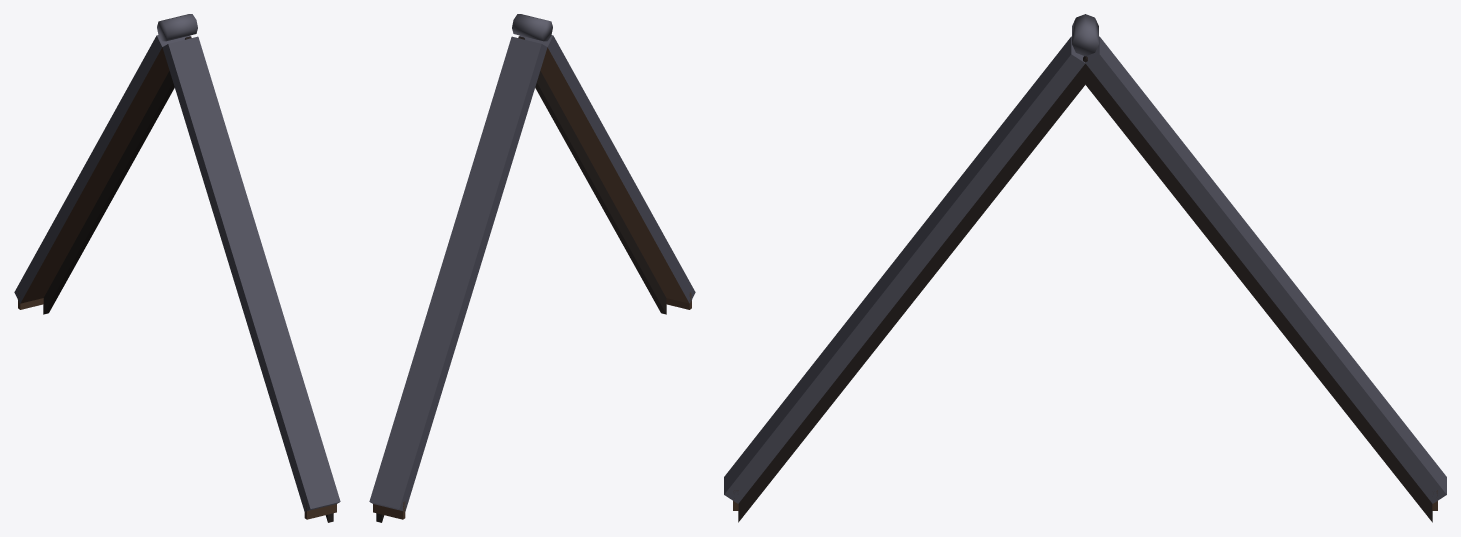
Rendered from kit_church_slate_w3_end.glb.
3 views of the same model, side by side, from view 1: azimuth 30°, elevation 25°; view 2: azimuth 150°, elevation 25°; view 3: azimuth 270°, elevation 25° (orthographic). The views are drawn at different scales.
Parts seen in each view (by area): view 1: kit_church_slate_w3_end; view 2: kit_church_slate_w3_end; view 3: kit_church_slate_w3_end.
Part boxes in pixels (x1,y1,x2,y2): kit_church_slate_w3_end: [14, 14, 340, 522]; kit_church_slate_w3_end: [369, 14, 695, 522]; kit_church_slate_w3_end: [724, 14, 1446, 522].
Size of the model in its own units: 0.22 by 2.81 by 3.75.
